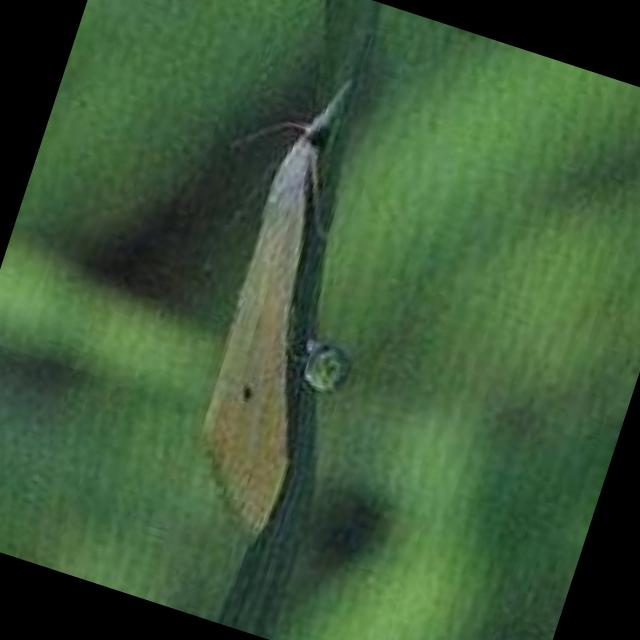stem-borer: (117, 51, 411, 538)
